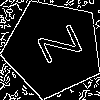Z: (28, 23, 83, 70)
